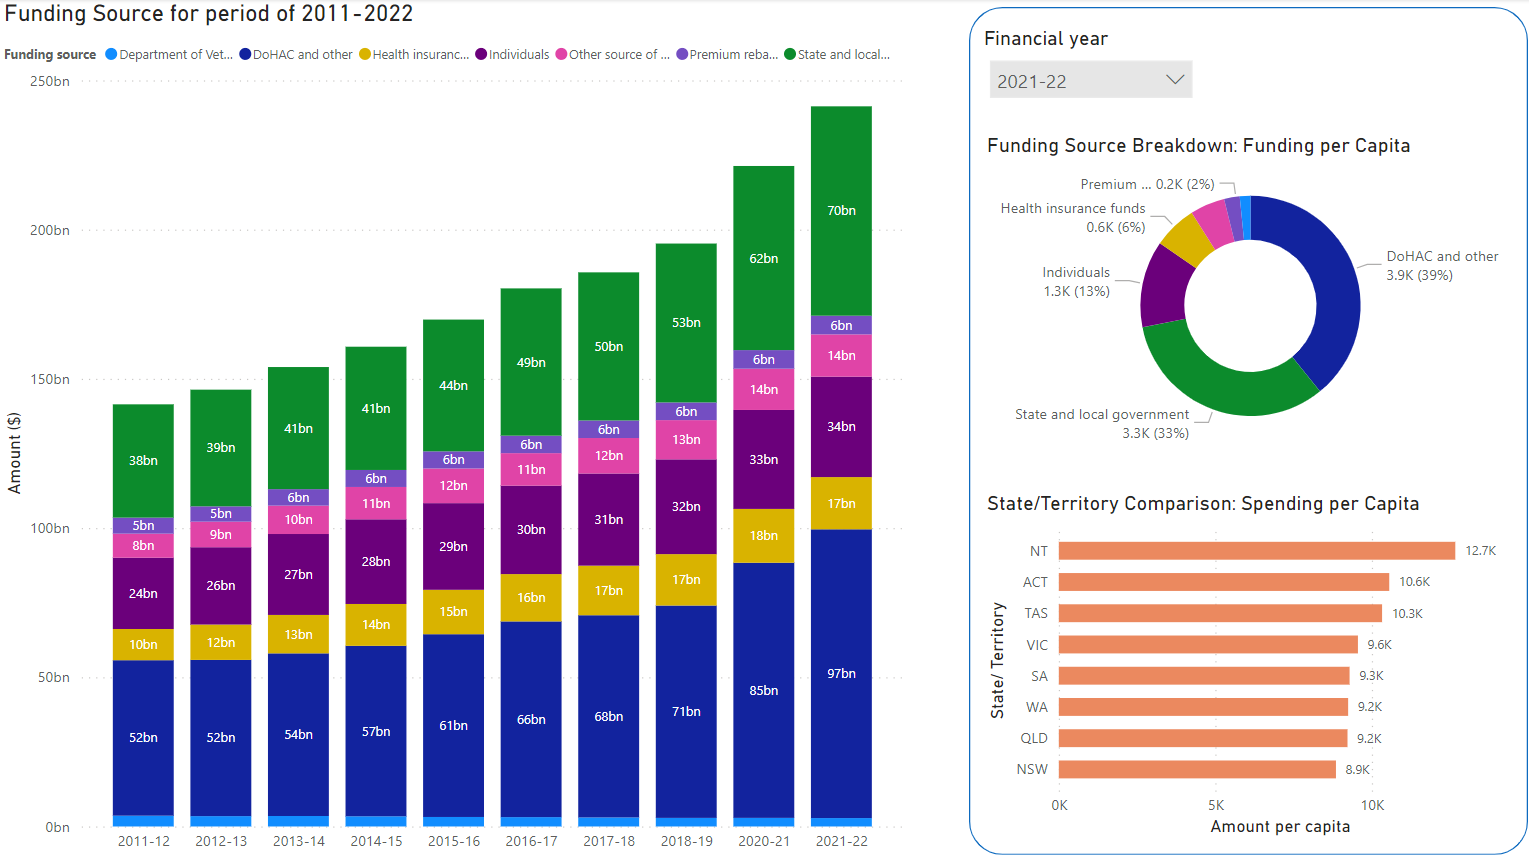

The dashboard page shown, as its layout file describes it:
{"tool":"powerbi","page":{"name":"Funding Source breakdown","canvas":[1280,720],"ordinal":1},"visuals":[{"type":"shape","box":[811,6.7,466.9,708.3],"z":0},{"type":"columnChart","title":"Funding Source for period of 2011-2022","fields":{"Series":["fund_source_with_pop.source_of_funds"],"Category":["fund_source_with_pop.year"],"Y":["Sum(fund_source_with_pop.total_amount)"]},"box":[0,0,761.8,720.8],"z":1000},{"type":"donutChart","title":"Funding Source Breakdown: Funding per Capita","fields":{"Category":["fund_source_with_pop.source_of_funds"],"Y":["Avg(fund_source_with_pop.amount_per_person)"]},"box":[821.1,111.9,450.2,269.8],"z":2000},{"type":"clusteredBarChart","title":"State/Territory Comparison: Spending per Capita","fields":{"Category":["fund_source_with_pop.jurisdiction"],"Y":["Sum(fund_source_with_pop.amount_per_person)"]},"box":[821.1,411,450.2,293.2],"z":3000},{"type":"slicer","title":"Financial year","fields":{"Values":["fund_source_with_pop.year"]},"box":[818.6,22.6,188.8,63.5],"z":4000}]}

Visuals, with their boxes in screenshot pixels (x1, y1, x2, y2), scaled from the page's 1280x720 canvas onto the 1529x858 screenshot:
shape: <bbox>969, 8, 1526, 852</bbox>
"Funding Source for period of 2011-2022" columnChart: <bbox>0, 0, 910, 857</bbox>
"Funding Source Breakdown: Funding per Capita" donutChart: <bbox>981, 133, 1519, 455</bbox>
"State/Territory Comparison: Spending per Capita" clusteredBarChart: <bbox>981, 490, 1519, 839</bbox>
"Financial year" slicer: <bbox>978, 27, 1203, 103</bbox>
